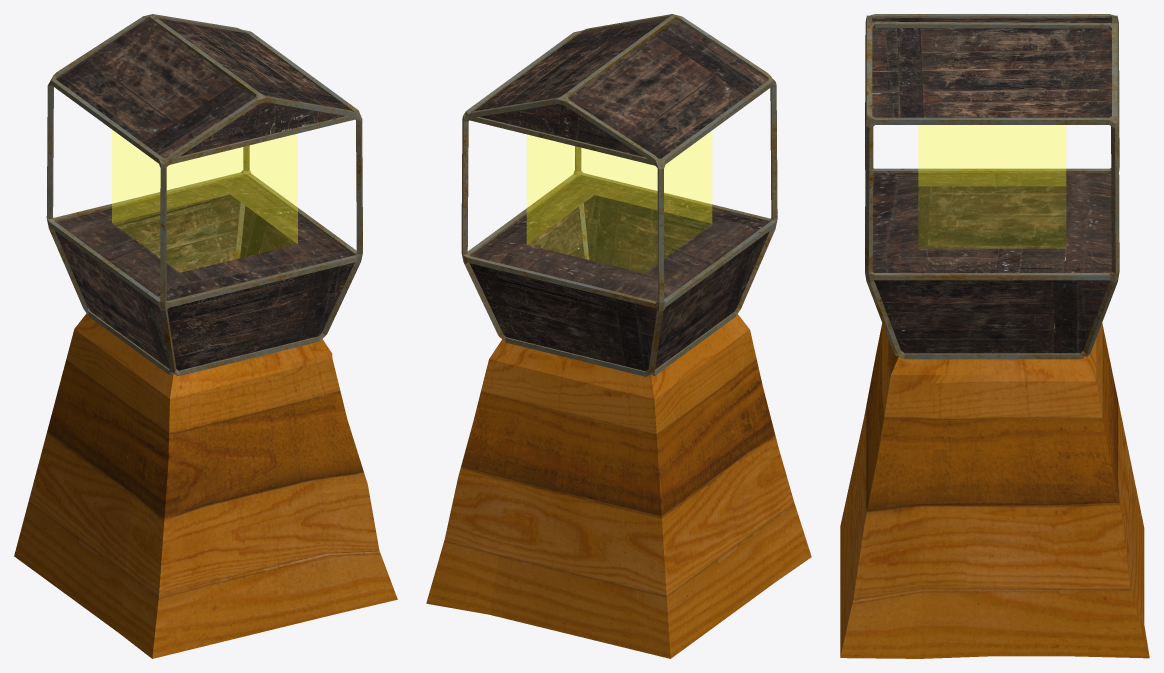
File: lamp-padestal.glb
The picture shows the model from 3 angles, left to right: view 1: azimuth 30°, elevation 25°; view 2: azimuth 150°, elevation 25°; view 3: azimuth 270°, elevation 25°; orthographic projection. The views are drawn at different scales.
Parts seen in each view (by area): view 1: padestal, lamp, light, frame; view 2: padestal, lamp, light, frame; view 3: padestal, lamp, light, frame.
Part boxes in pixels (x1,y1,x2,y2): padestal: (14, 313, 397, 658); lamp: (55, 18, 354, 370); light: (112, 130, 297, 271); frame: (46, 14, 362, 375); padestal: (426, 314, 811, 658); lamp: (469, 19, 769, 371); light: (527, 131, 711, 272); frame: (461, 14, 777, 376); padestal: (840, 323, 1149, 658); lamp: (872, 18, 1111, 353); light: (918, 125, 1065, 247); frame: (865, 14, 1119, 359).
Size of the model in its own units: 1.72 by 3.53 by 1.73.
4 materials, 3 textured.
